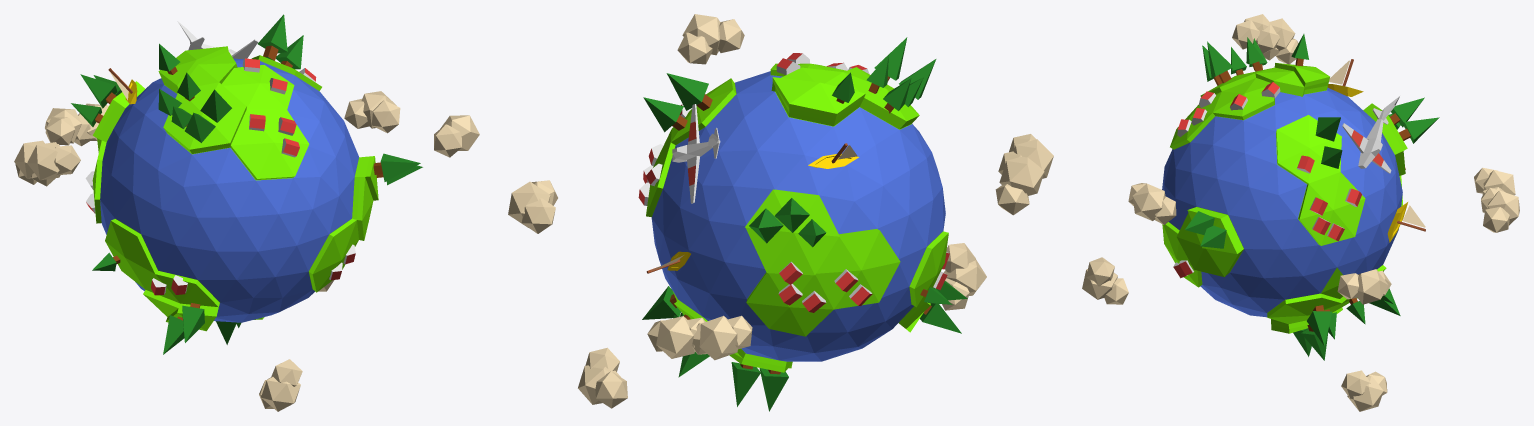
Rendered from earth.glb.
3 views of the same model, side by side, from view 1: azimuth 30°, elevation 25°; view 2: azimuth 150°, elevation 25°; view 3: azimuth 270°, elevation 25° (orthographic). The views are drawn at different scales.
Visible parts, largest first — view 1: Icosphere, Icosphere.001, Icosphere.008, Icosphere.006, Icosphere.003, Icosphere.004, Plane.013, Plane.016, Plane.027, Icosphere.007, Plane.005, Plane.003 (+4 smaller); view 2: Icosphere, Icosphere.004, Icosphere.005, Icosphere.007, Icosphere.003, Icosphere.001, Icosphere.006, Icosphere.002, Plane.003, Plane.013, Icosphere.008, Plane.014 (+9 smaller); view 3: Icosphere, Icosphere.006, Icosphere.004, Plane.003, Icosphere.005, Icosphere.001, Icosphere.002, Icosphere.007, Icosphere.008, Icosphere.003, Plane.002, Plane.020 (+7 smaller).
Part boxes in pixels (x1,y1,x2,y2): Icosphere: (92,46,378,331); Icosphere.001: (344,91,400,133); Icosphere.008: (27,142,80,186); Icosphere.006: (259,359,302,411); Icosphere.003: (45,108,94,146); Icosphere.004: (434,115,479,157); Plane.013: (257,14,287,60); Plane.016: (373,153,420,181); Plane.027: (182,303,204,342); Icosphere.007: (14,140,59,184); Plane.005: (80,74,117,108); Plane.003: (177,21,258,59); Icosphere: (646,63,948,372); Icosphere.004: (677,14,744,64); Icosphere.005: (578,347,627,408); Icosphere.007: (995,151,1044,215); Icosphere.003: (692,315,752,360); Icosphere.001: (508,180,557,233); Icosphere.006: (942,243,986,310); Icosphere.002: (647,316,705,358); Plane.003: (672,104,720,203); Plane.013: (666,73,712,110); Icosphere.008: (1009,134,1053,178); Plane.014: (643,97,687,132); Icosphere: (1162,63,1407,333); Icosphere.006: (1082,257,1128,304); Icosphere.004: (1128,183,1176,224); Plane.003: (1342,96,1399,173); Icosphere.005: (1341,370,1387,411); Icosphere.001: (1337,269,1391,304); Icosphere.002: (1481,188,1519,232); Icosphere.007: (1256,18,1298,64); Icosphere.008: (1232,14,1279,60); Icosphere.003: (1474,167,1515,195); Plane.002: (1387,202,1425,242); Plane.020: (1307,305,1332,345).
Size of the model in its own units: 3.83 by 2.76 by 3.75.
